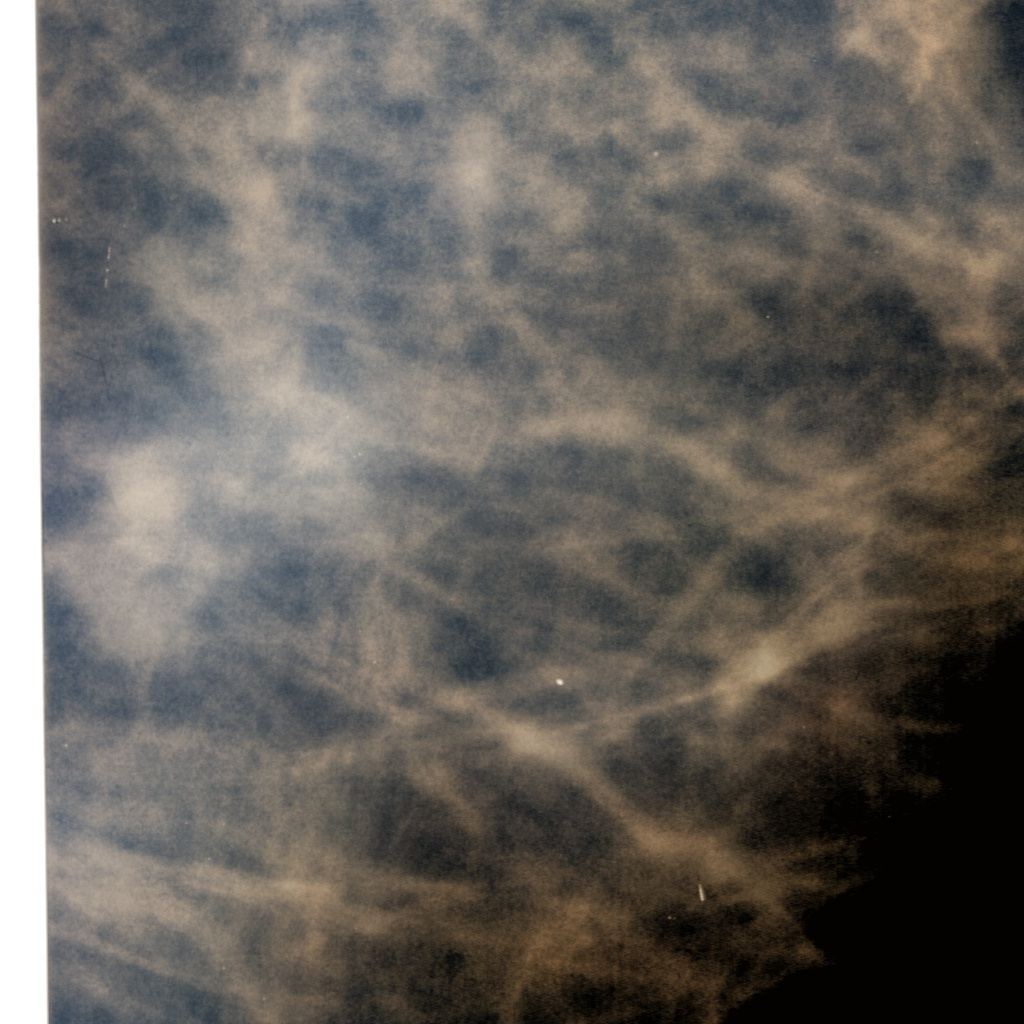tumor: (26, 360, 256, 664)
